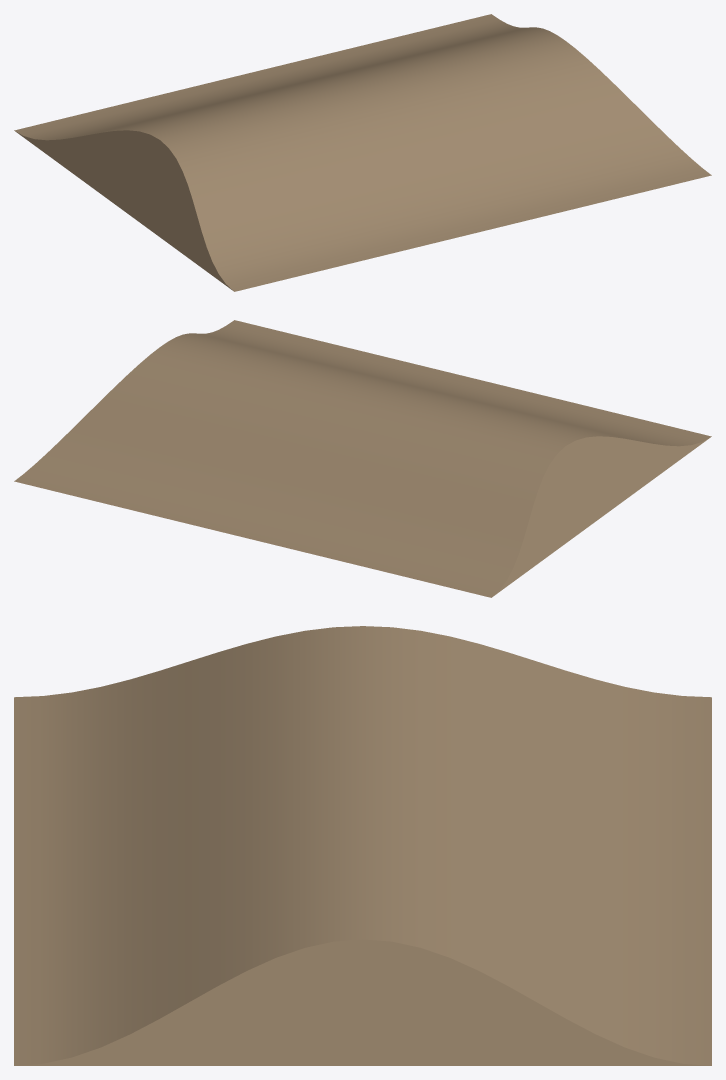
Rendered from yard_whoop.glb.
The picture shows the model from 3 angles, top to bottom: view 1: azimuth 30°, elevation 25°; view 2: azimuth 150°, elevation 25°; view 3: azimuth 270°, elevation 25°; orthographic projection. The views are drawn at different scales.
Parts seen in each view (by area): view 1: SM_yard_whoop; view 2: SM_yard_whoop; view 3: SM_yard_whoop.
Part boxes in pixels (x1,y1,x2,y2): SM_yard_whoop: (14,14,711,291); SM_yard_whoop: (14,320,711,597); SM_yard_whoop: (14,626,711,1065).
Size of the model in its own units: 4 by 0.5 by 3.2.
